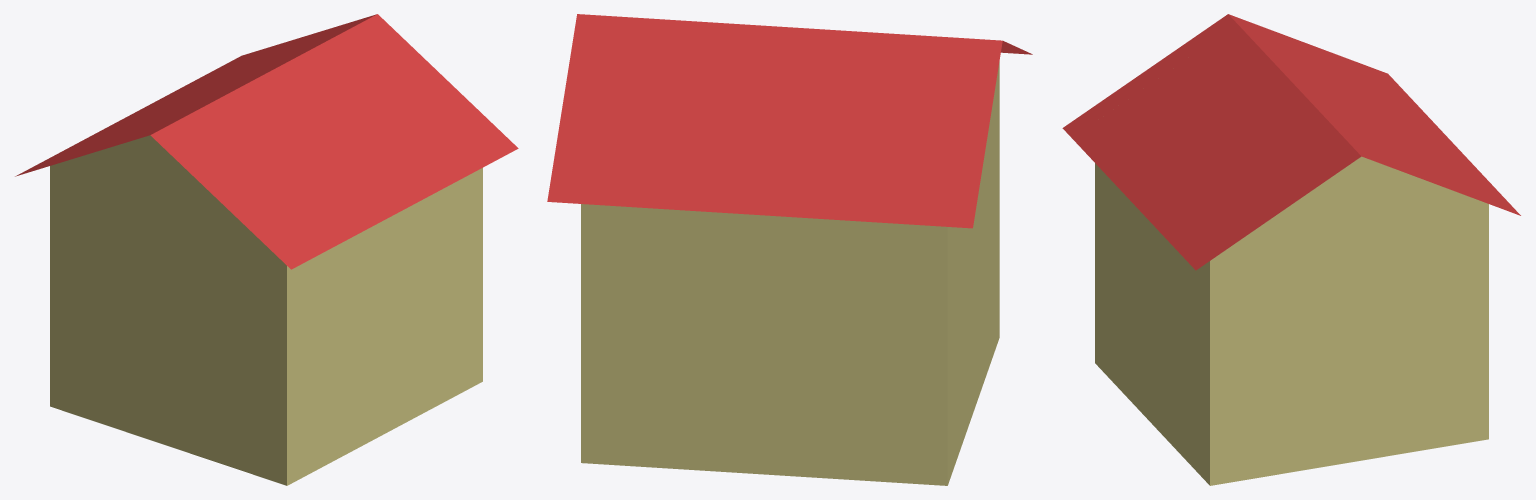
The picture shows the model from 3 angles, left to right: view 1: azimuth 30°, elevation 25°; view 2: azimuth 150°, elevation 25°; view 3: azimuth 270°, elevation 25°; orthographic projection. The views are drawn at different scales.
Bounding box in the file's own units: 13.89 × 13.68 × 10.38.
